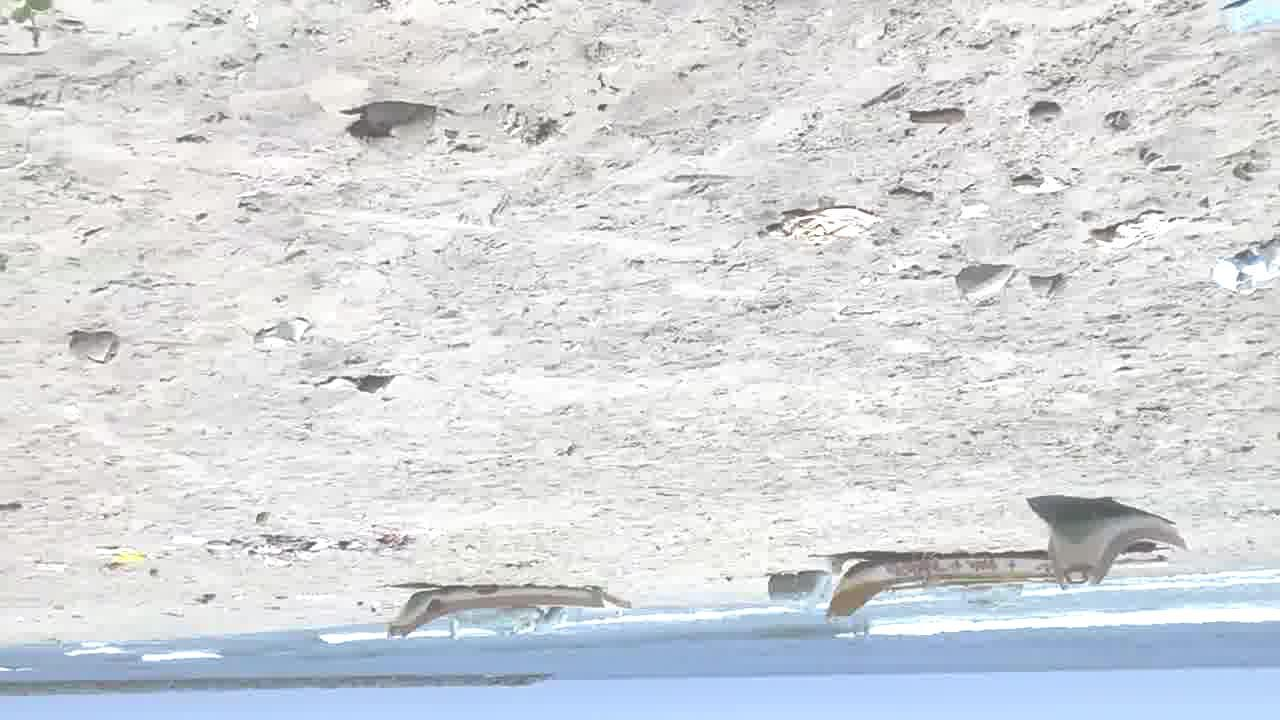large collection of objects: (814, 512, 1194, 618), (384, 584, 620, 640)
obj: (178, 526, 446, 566), (356, 98, 443, 167), (763, 206, 886, 246), (1092, 208, 1189, 252), (64, 326, 126, 367), (1223, 248, 1279, 290), (951, 267, 1020, 298), (253, 318, 304, 352), (308, 378, 398, 395), (86, 548, 147, 572), (1026, 103, 1066, 130), (911, 108, 960, 124)
sand/background: (0, 561, 1280, 719)
